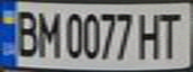0: (63, 8, 84, 60), (81, 8, 100, 61)
7: (115, 9, 136, 61), (100, 9, 118, 60)
B: (9, 6, 42, 57)
H: (136, 8, 166, 61)
M: (33, 7, 63, 60)
T: (154, 8, 187, 60)
